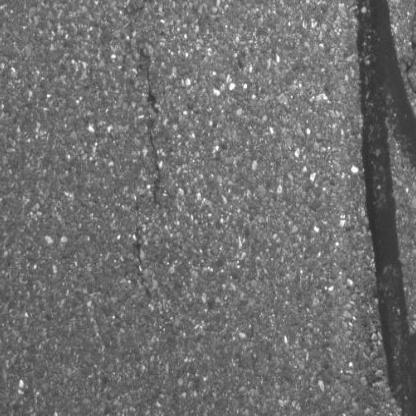Cracks: (131, 45, 169, 212), (131, 222, 158, 305), (117, 0, 181, 20)
